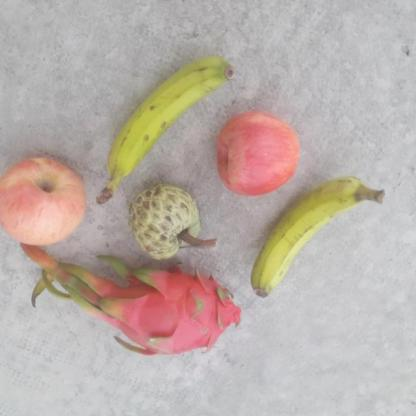annona: (125, 179, 204, 261)
apple: (0, 155, 90, 245), (218, 110, 304, 199)
banana: (96, 53, 236, 206), (250, 169, 390, 298)
pitaya: (108, 258, 244, 361)
